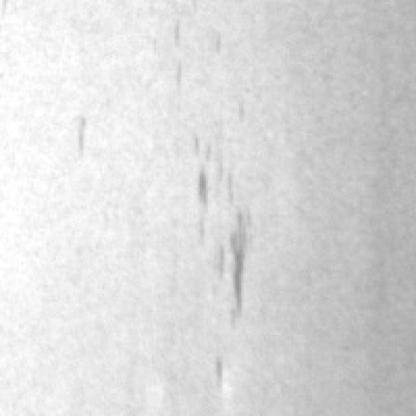inclusion: (181, 114, 239, 242), (208, 199, 256, 326)
